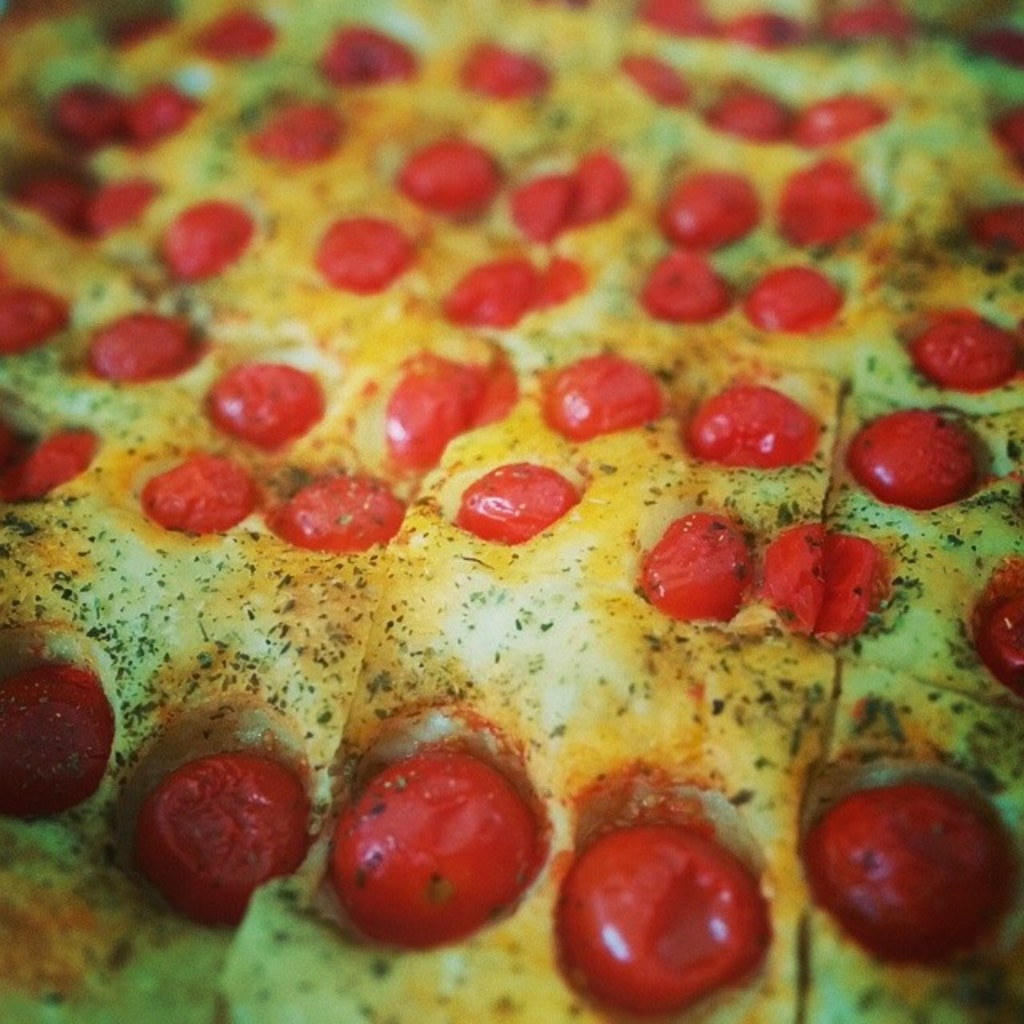Tomato: (550, 812, 758, 1017), (326, 748, 539, 948), (819, 784, 1022, 961), (137, 747, 310, 935), (0, 656, 115, 809), (369, 352, 507, 468), (848, 396, 984, 507), (768, 532, 897, 641), (649, 507, 758, 627), (507, 148, 627, 244), (276, 467, 404, 555), (432, 254, 595, 323), (208, 363, 318, 457), (539, 355, 667, 435), (902, 308, 1022, 393), (652, 167, 766, 256), (135, 452, 249, 540), (694, 379, 812, 464), (774, 150, 880, 244), (32, 180, 160, 251), (313, 212, 419, 297), (457, 465, 572, 542), (153, 201, 257, 286), (0, 417, 94, 504), (398, 147, 502, 217), (743, 260, 841, 332), (969, 566, 1022, 694), (187, 3, 286, 71), (243, 99, 340, 163), (652, 244, 726, 327), (315, 25, 412, 88), (100, 313, 195, 377), (0, 278, 73, 358), (454, 44, 548, 105), (704, 76, 784, 147), (36, 81, 108, 150), (120, 83, 190, 148), (822, 1, 912, 51), (620, 56, 696, 110), (99, 12, 180, 60), (788, 99, 876, 142), (724, 9, 792, 60), (644, 0, 716, 44), (980, 105, 1022, 169), (971, 192, 1022, 244)
